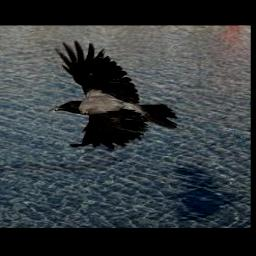Crow: (52, 40, 178, 148)
